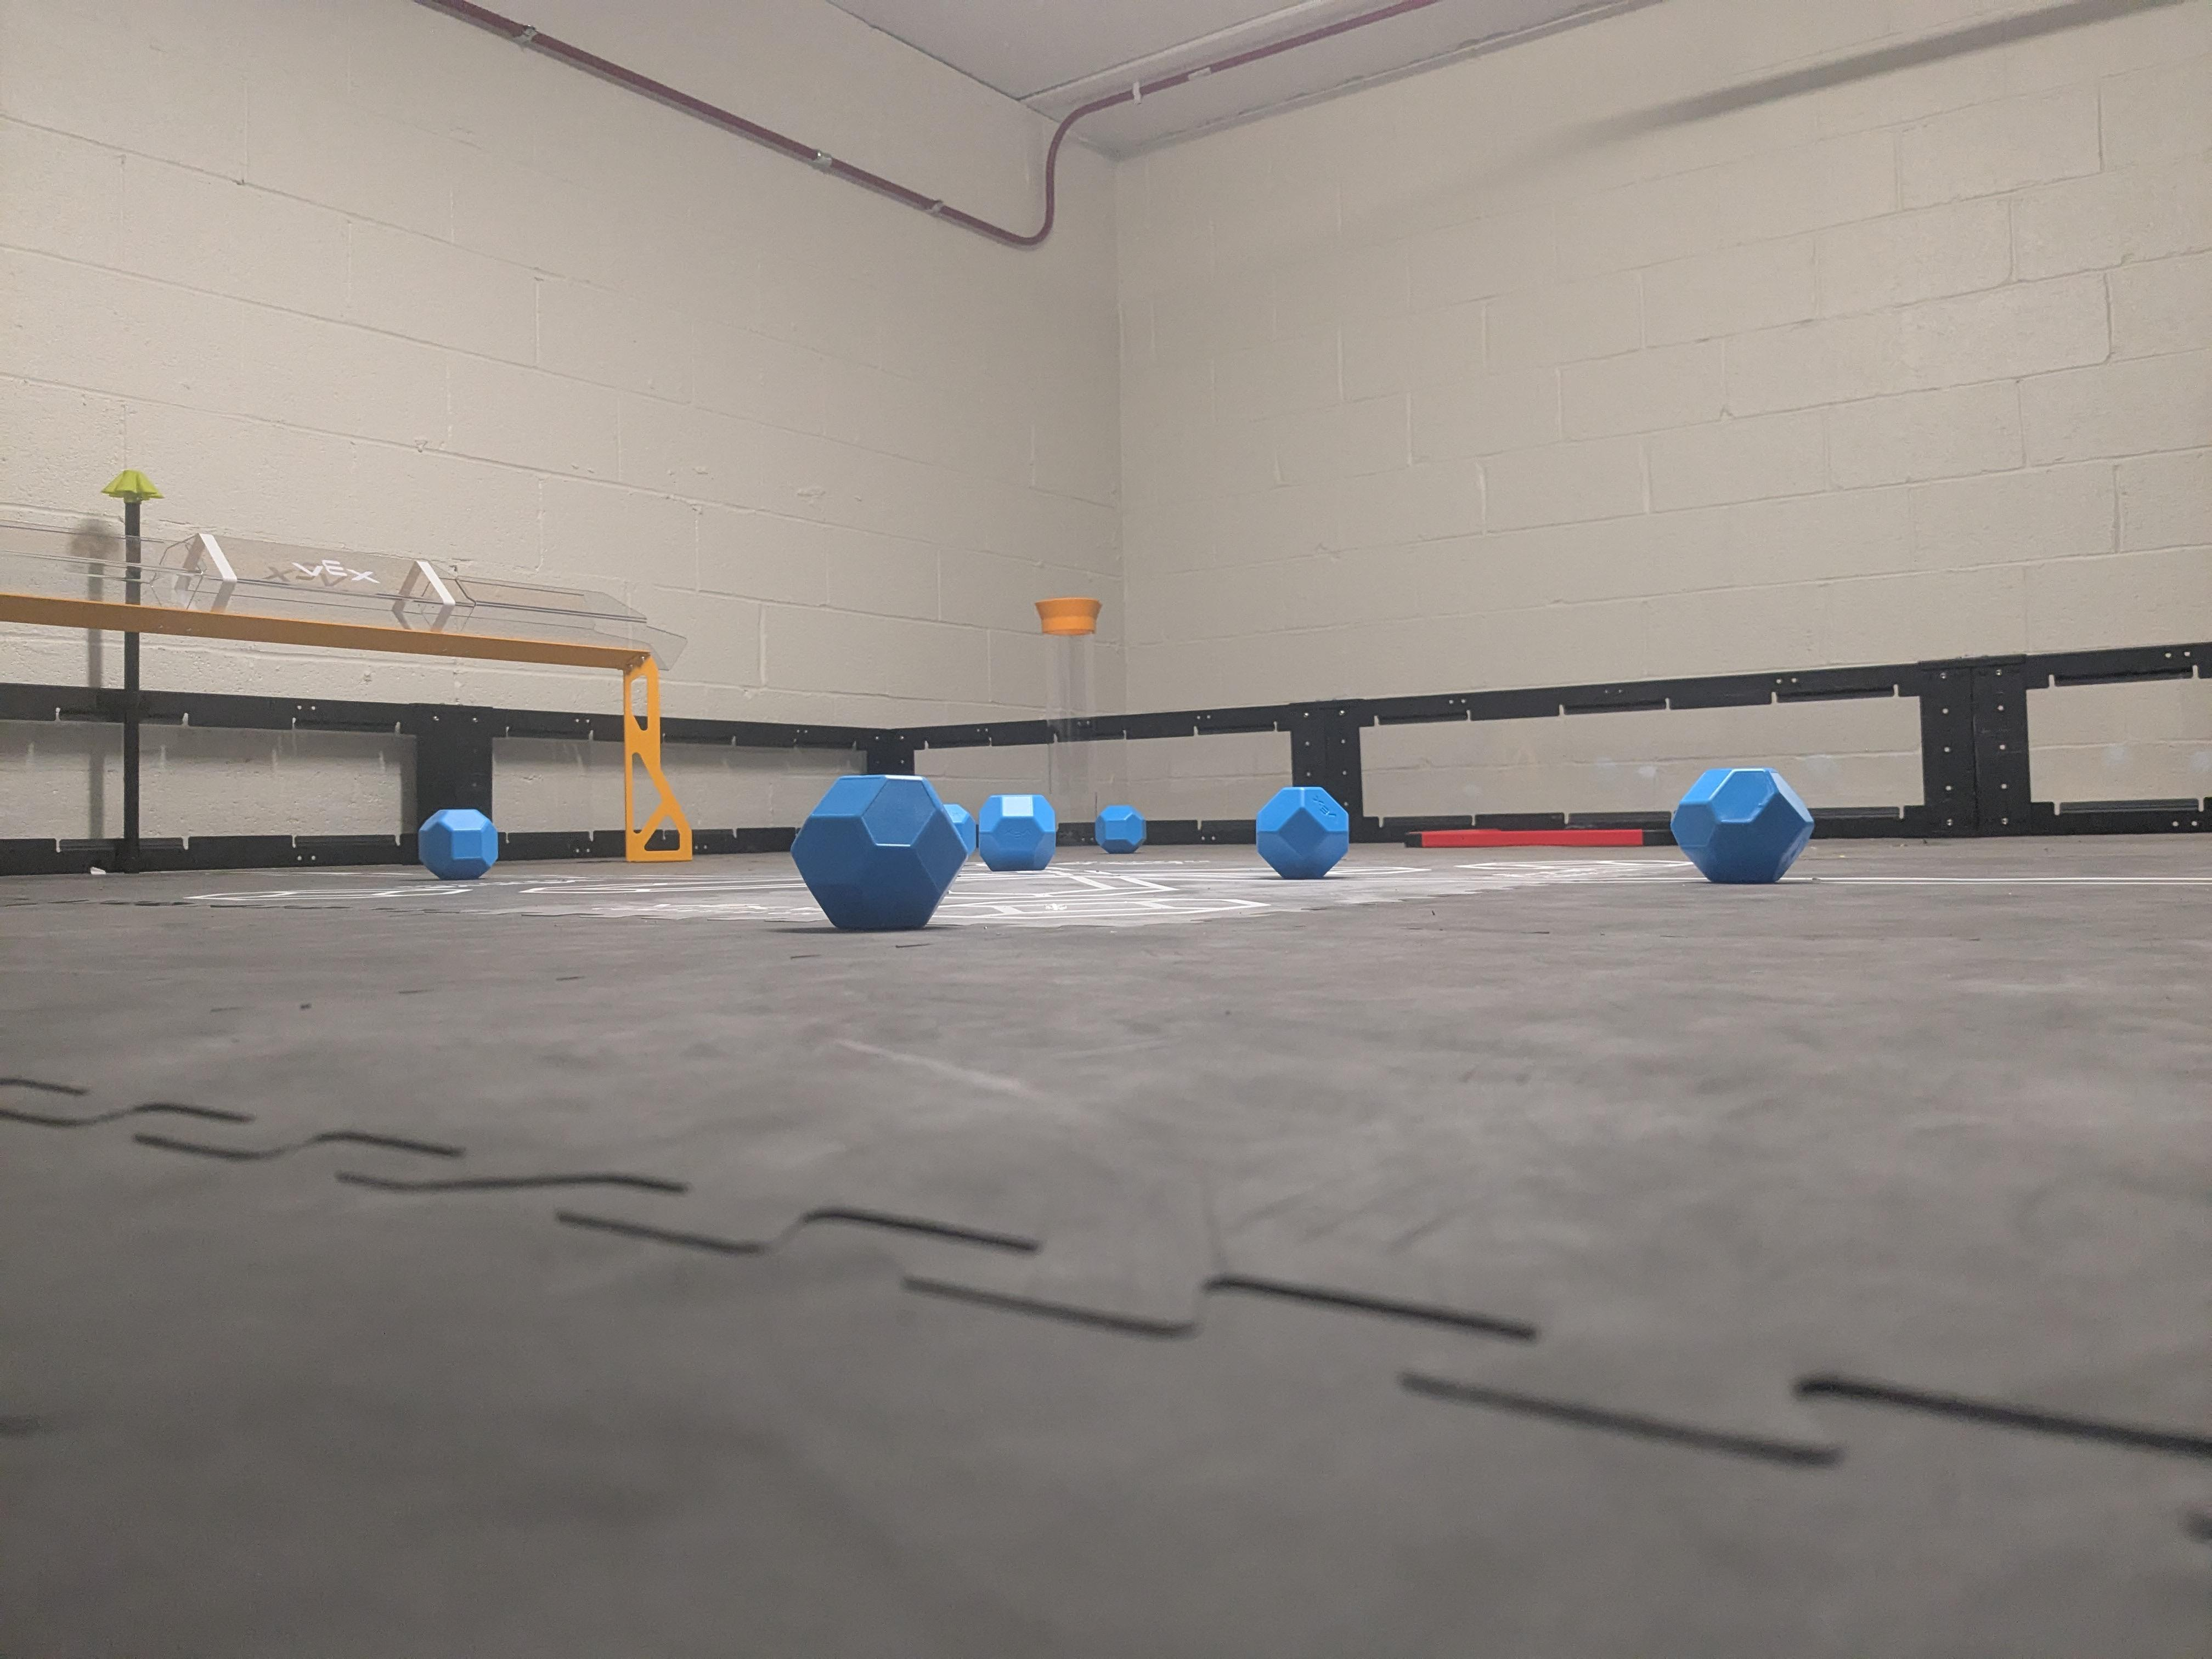Vex-Pieces-BLUE: (794, 777, 984, 931), (1672, 767, 1810, 878), (1254, 788, 1350, 877), (977, 795, 1055, 871), (421, 809, 496, 878), (1096, 805, 1146, 854)
